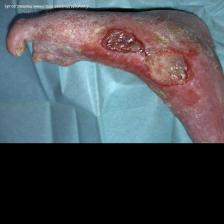Wound: (98, 24, 148, 66), (141, 48, 194, 87)
